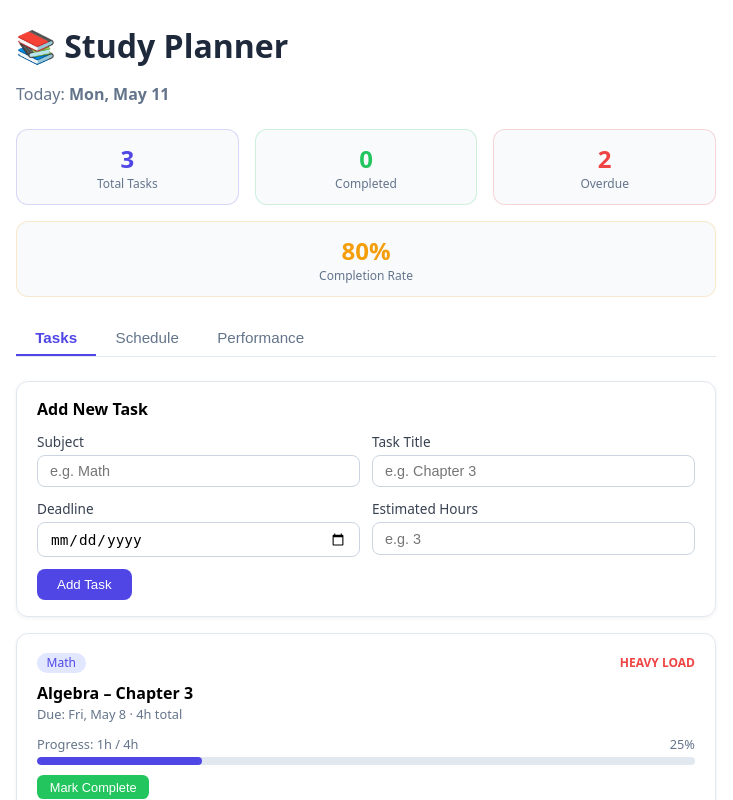
StudentDashboard integration › adds a new task through the add task form
Type "Biology" into the field with placeholder "e.g. Math" at (198, 471), box [37,455,360,487]
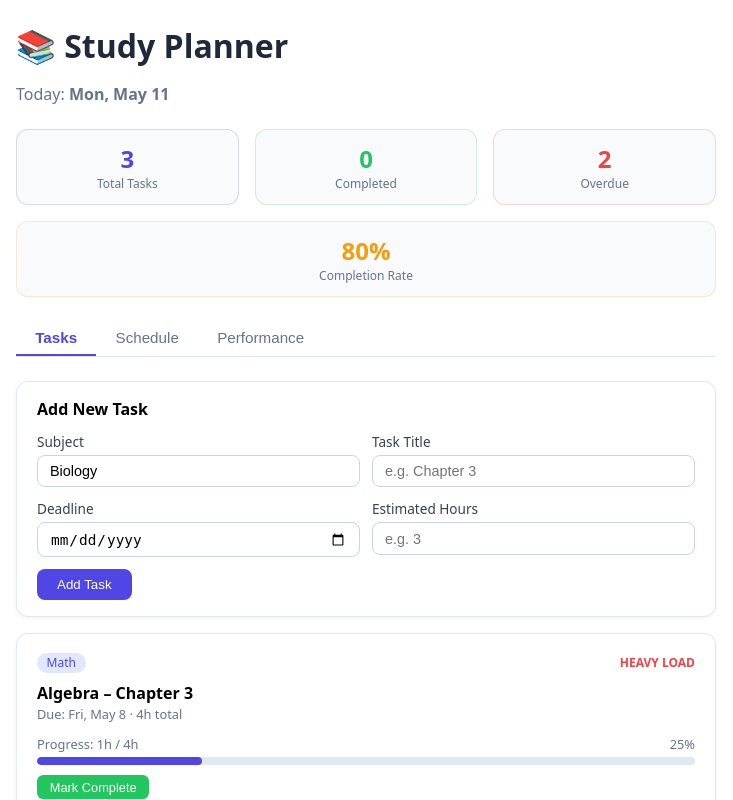
Type "Cell structure" into the field with placeholder "e.g. Chapter 3" at (534, 471), box [372,455,695,487]
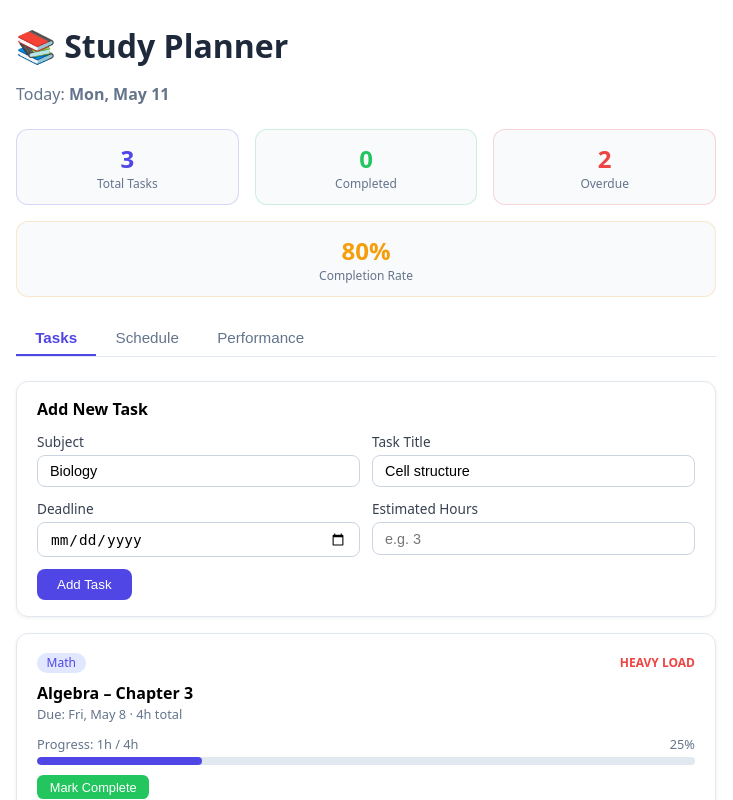
Type "2" into the number field with placeholder "e.g. 3" at (534, 539), box [372,522,695,555]
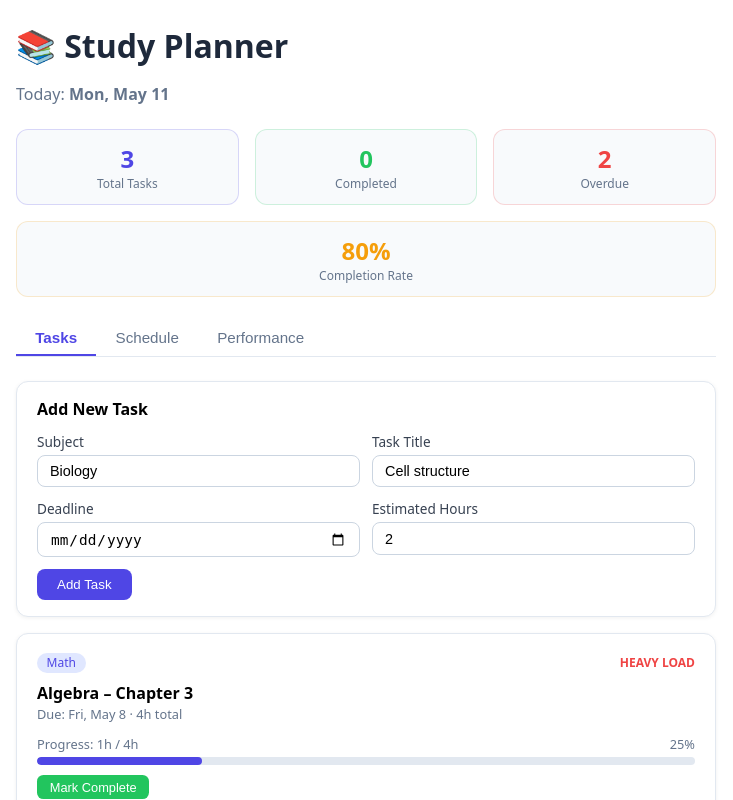
Type "2026-05-15" into the date field labelled "Deadline" at (198, 540), box [37,522,360,557]
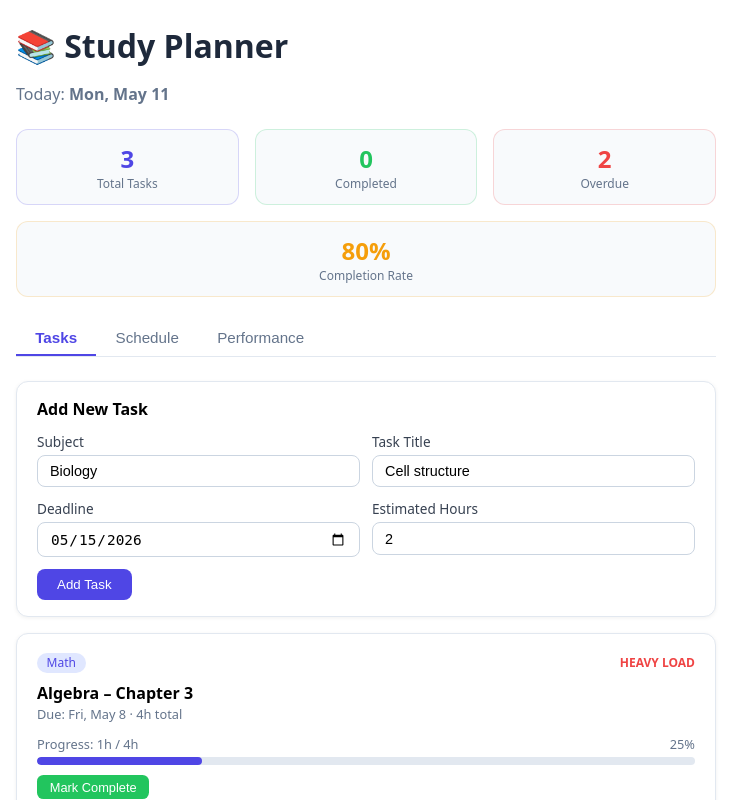
Click the button "Add Task" at (84, 585), box [37,569,132,600]
(page scrolled)
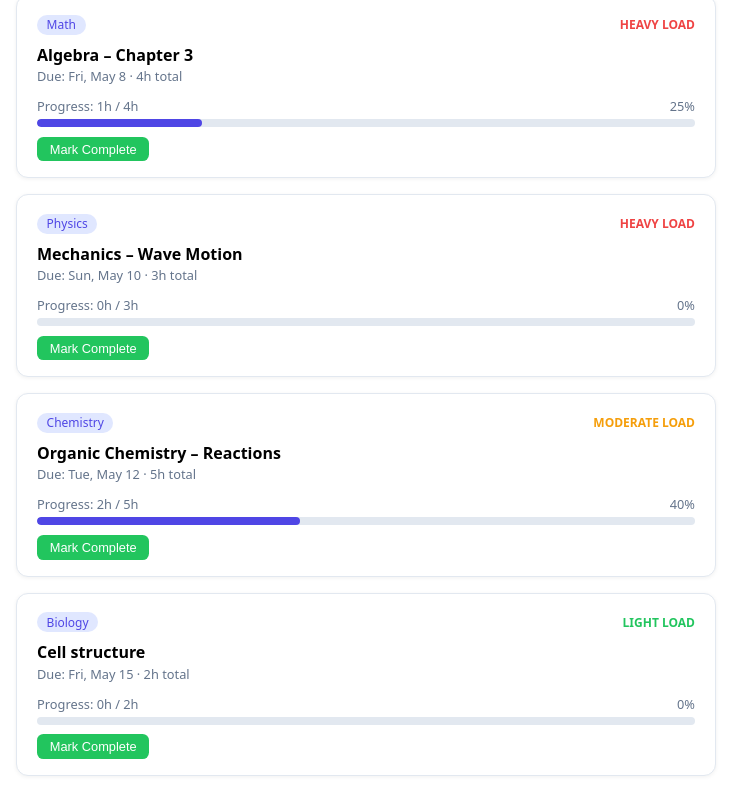
Expected: the text "Cell structure" is shown, [37,641,145,663]
Expected: the text "Biology" is shown, [37,612,98,632]
